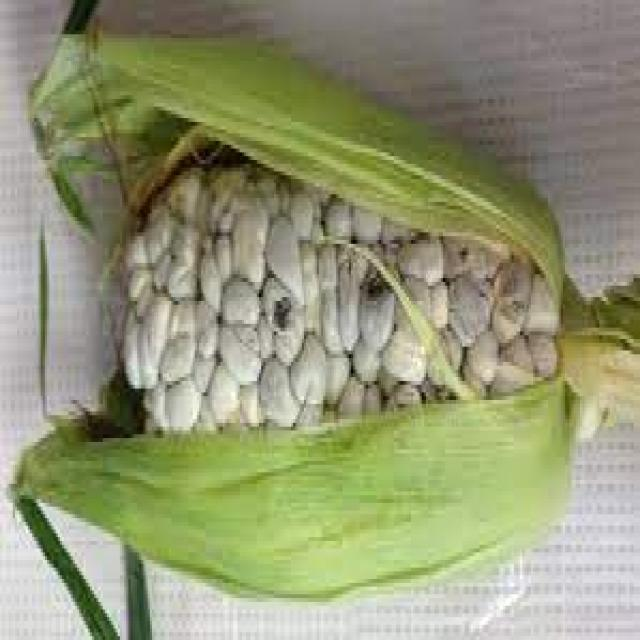Leaf_Scald: (38, 3, 584, 613)
